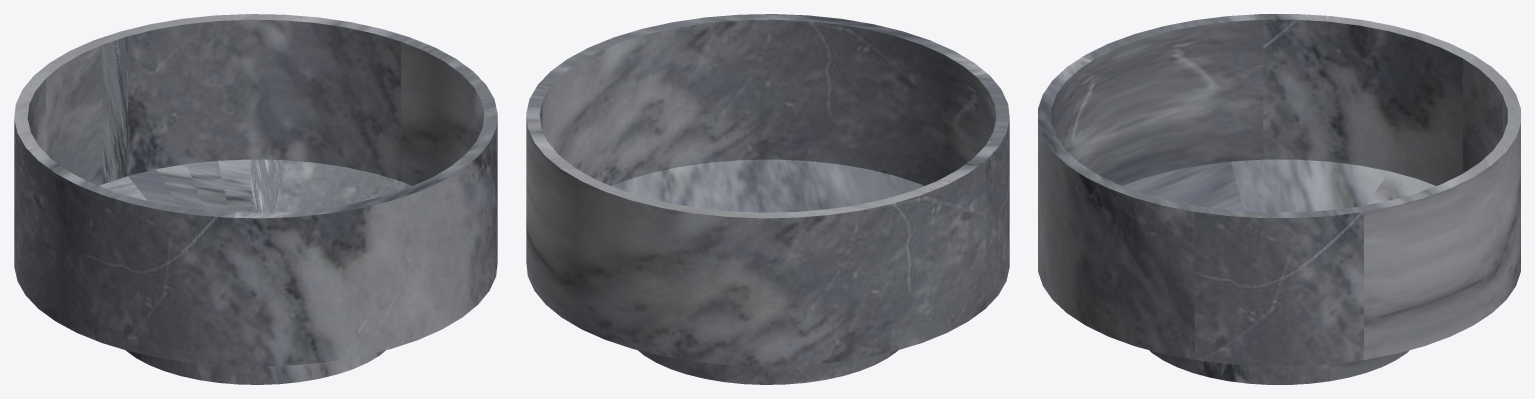
File: decor_marble_bowl.glb
The picture shows the model from 3 angles, left to right: view 1: azimuth 30°, elevation 25°; view 2: azimuth 150°, elevation 25°; view 3: azimuth 270°, elevation 25°; orthographic projection.
Parts seen in each view (by area): view 1: Geom3D; view 2: Geom3D; view 3: Geom3D.
Boxes of the visible parts, x1=… form: Geom3D: x1=14, y1=14, x2=497, y2=384; Geom3D: x1=526, y1=14, x2=1009, y2=384; Geom3D: x1=1038, y1=14, x2=1520, y2=384.
Bounding box in the file's own units: 0.2273 × 0.1079 × 0.2273.
18 materials, 18 textured.
